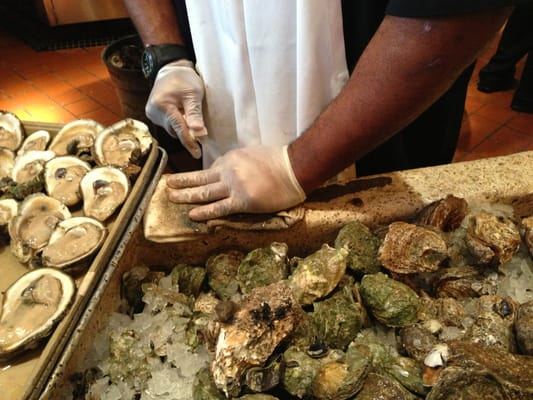salad: (80, 166, 130, 223)
